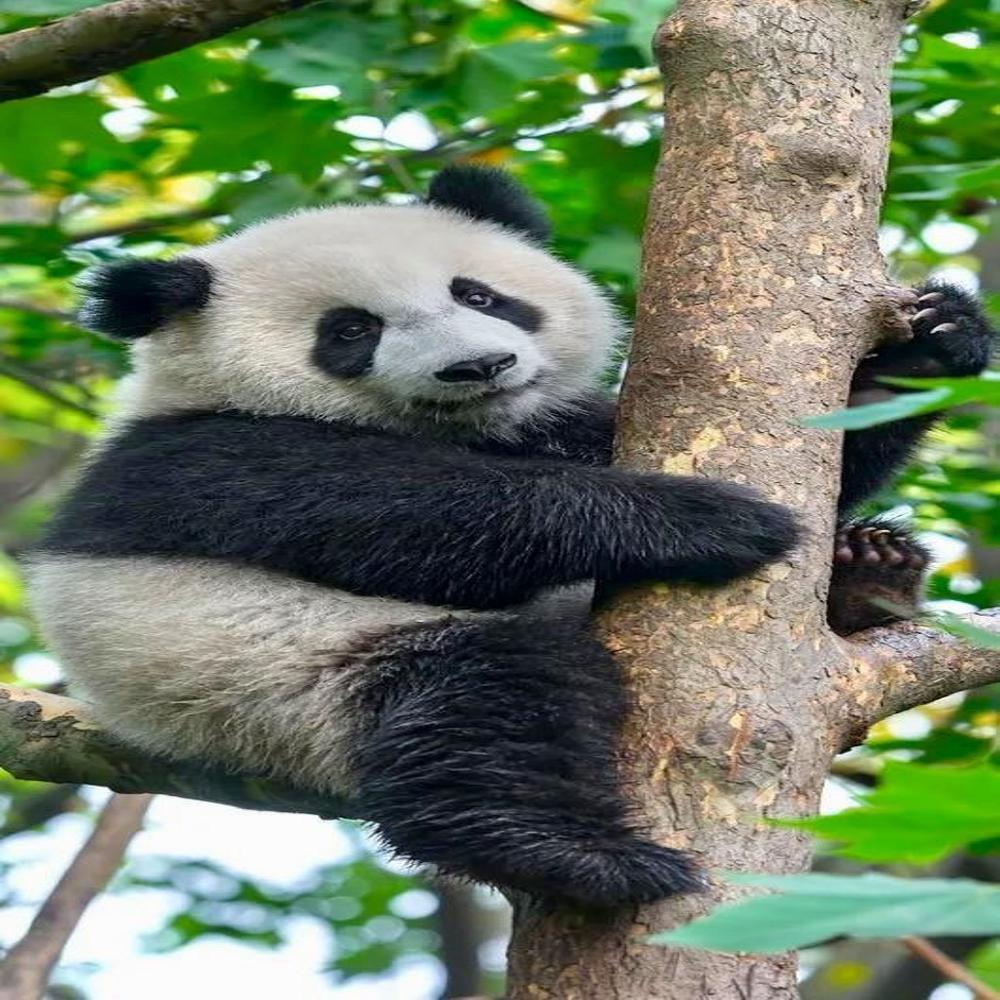panda: (40, 156, 986, 925)
